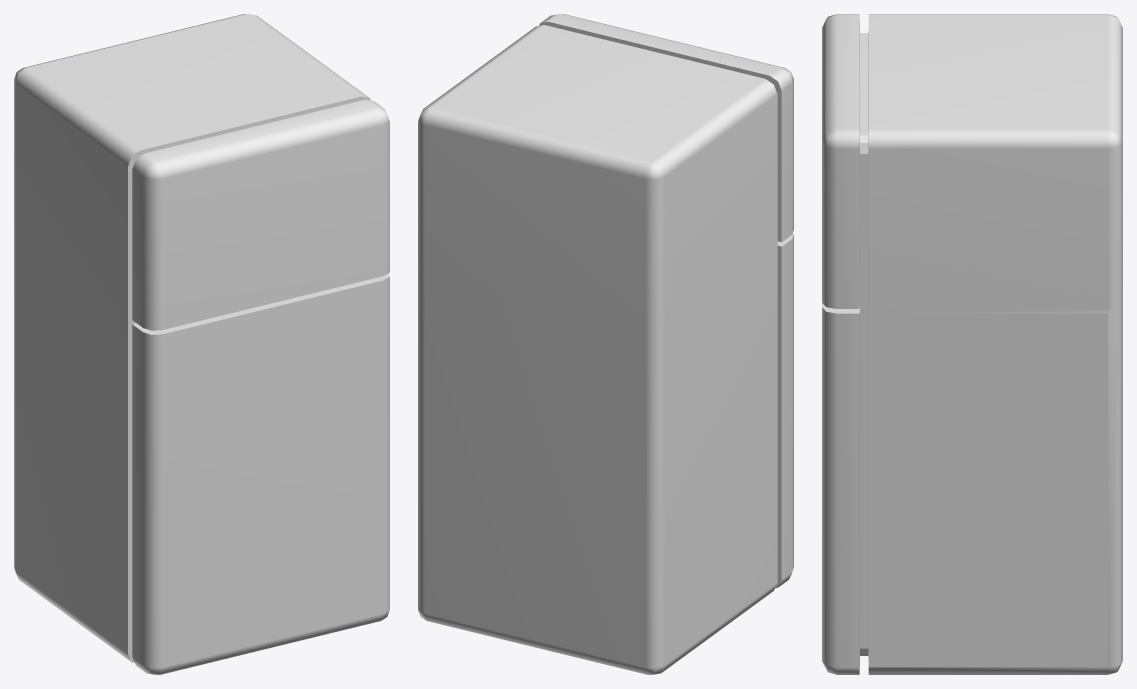
Rendered from Y2BoxRefrigerator.fbx.
The picture shows the model from 3 angles, left to right: view 1: azimuth 30°, elevation 25°; view 2: azimuth 150°, elevation 25°; view 3: azimuth 270°, elevation 25°; orthographic projection. The views are drawn at different scales.
Parts seen in each view (by area): view 1: reizouko2; view 2: reizouko2; view 3: reizouko2.
Boxes of the visible parts, <box> form: reizouko2: <box>14,14,389,674</box>; reizouko2: <box>418,14,793,674</box>; reizouko2: <box>822,14,1122,674</box>.
Size of the model in its own units: 1 by 2 by 1.
Materials: 1 (1 with a texture image).
